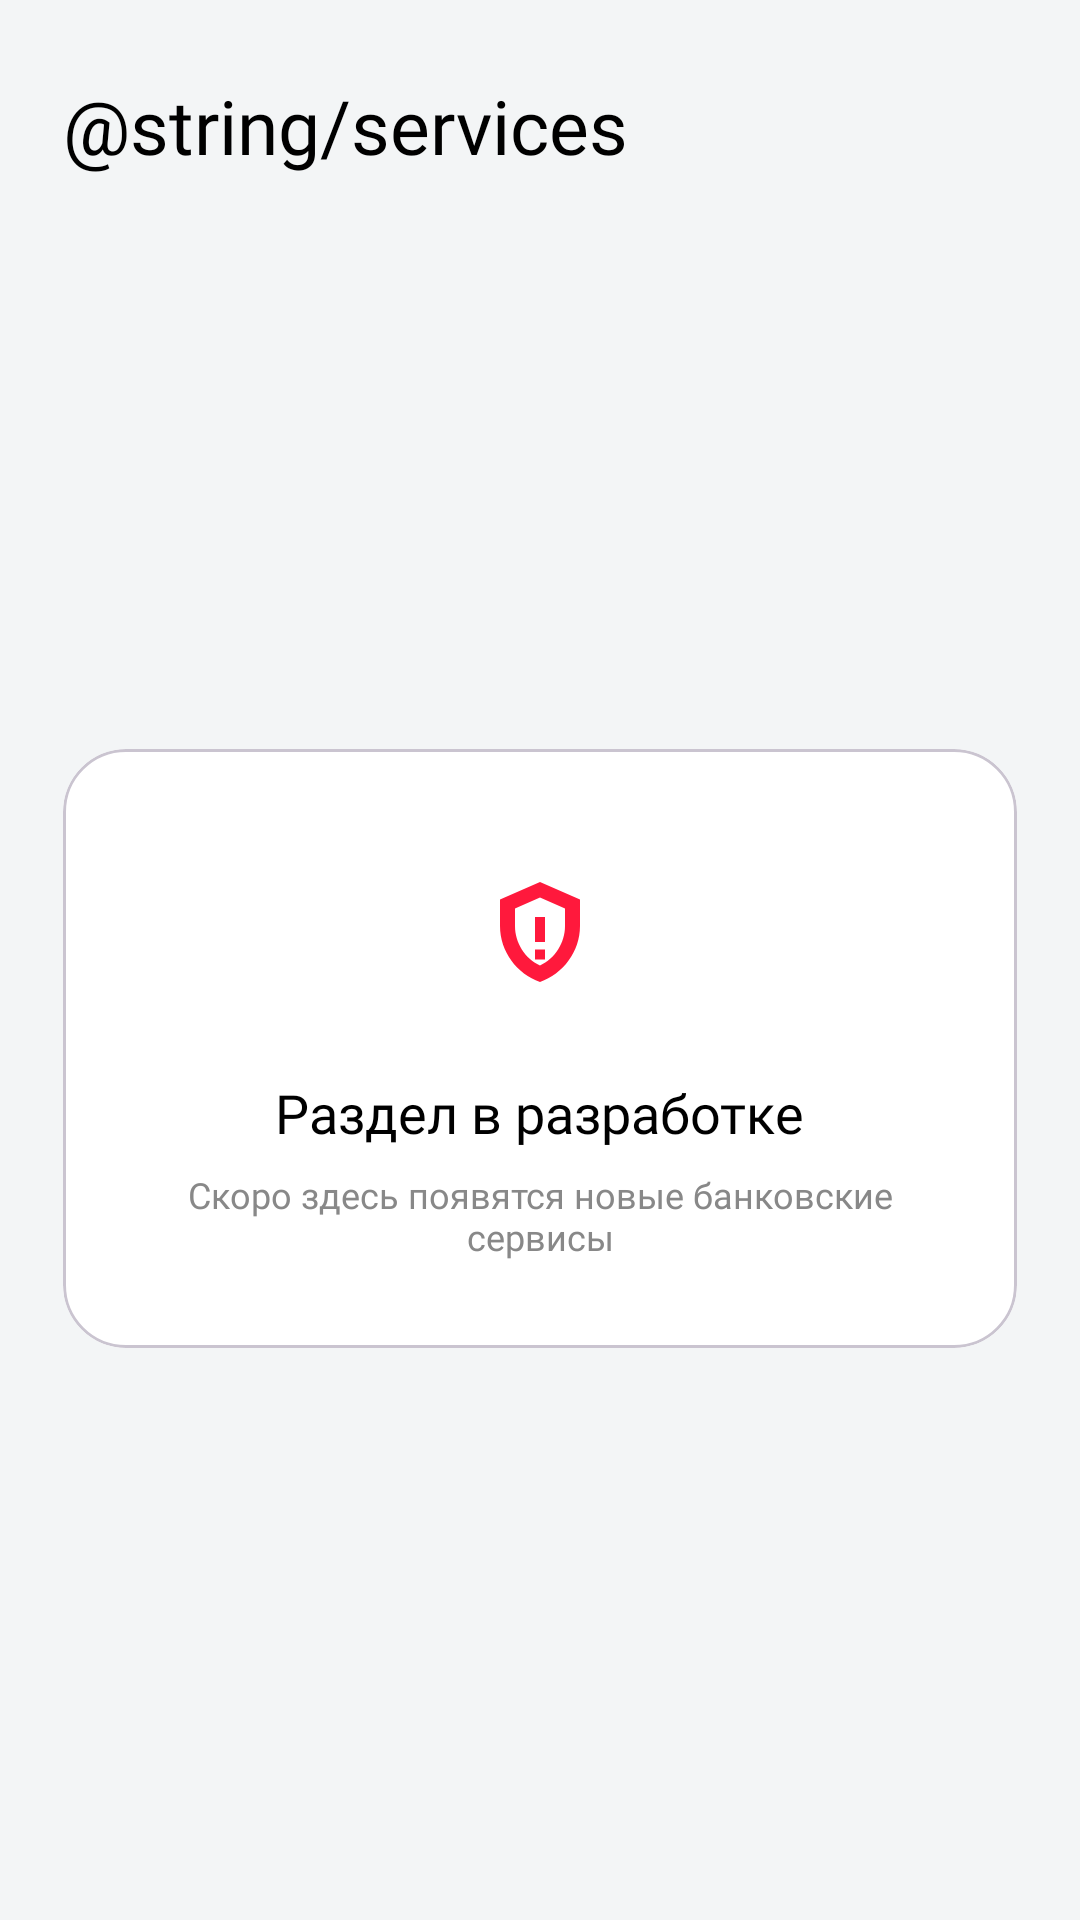

Named icons in this screenshot (1080x1920) and their bounding boxes, (x1, y1, x2, y2):
security: (500, 882, 580, 982)
